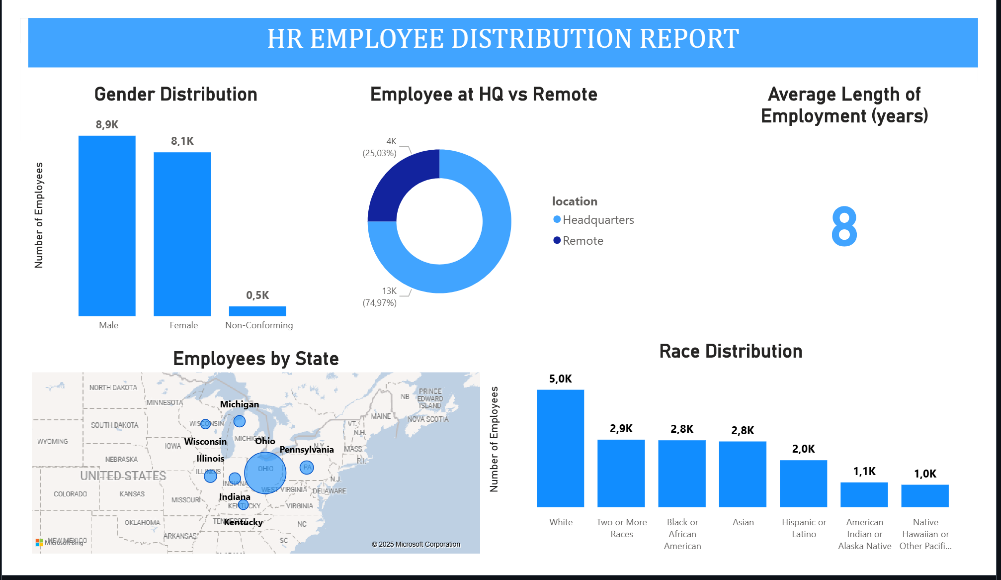

What the dashboard file says about the page in this screenshot:
{"tool":"powerbi","page":{"name":"Page 1","canvas":[1280,720],"ordinal":0},"visuals":[{"type":"textbox","box":[11.4,0,1268.6,65.7],"z":0},{"type":"card","title":"Average Length of Employment (years)","fields":{"Values":["Sum(avg_employment_length.avg_employment_len)"]},"box":[922.9,85.7,357.1,305.7],"z":1000},{"type":"columnChart","title":"Gender Distribution","fields":{"Category":["gender.gender"],"Y":["Sum(gender.count)"]},"box":[11.8,85.7,393.1,342.7],"z":2000},{"type":"donutChart","title":"Employee at HQ vs Remote","fields":{"Y":["Sum(location.count)"],"Category":["location.location"]},"box":[404.8,85.7,430,342.7],"z":3000},{"type":"map","title":"Employees by State","fields":{"Size":["Sum(location_state.count)"],"Category":["location_state.location_state"]},"box":[11.4,438.6,608.6,281.4],"z":3001},{"type":"clusteredColumnChart","title":"Race Distribution","fields":{"Category":["race.race"],"Y":["Sum(race.count)"]},"box":[620,428.6,660,291.4],"z":3002}]}

Visuals, with their boxes in screenshot pixels (x1, y1, x2, y2), scaled from the page's 1280x720 canvas onto the 1001x580 screenshot:
textbox: 9,0,1000,53
"Average Length of Employment (years)" card: 722,69,1000,315
"Gender Distribution" columnChart: 9,69,317,345
"Employee at HQ vs Remote" donutChart: 317,69,653,345
"Employees by State" map: 9,353,485,579
"Race Distribution" clusteredColumnChart: 485,345,1000,579
